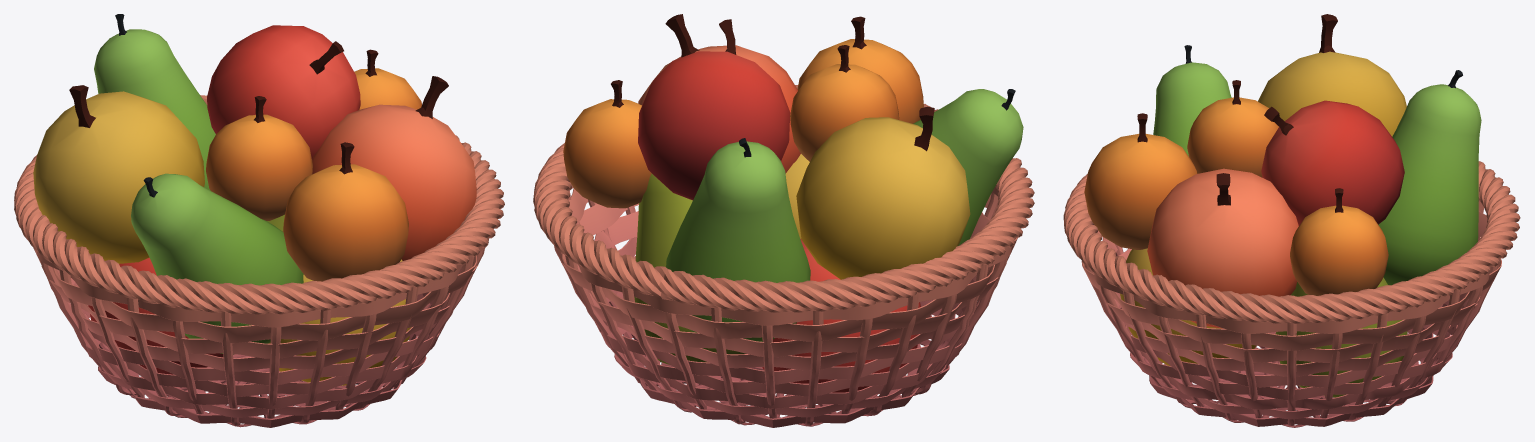
File: SM_FruitsSet.fbx
3 views of the same model, side by side, from view 1: azimuth 30°, elevation 25°; view 2: azimuth 150°, elevation 25°; view 3: azimuth 270°, elevation 25° (orthographic). The views are drawn at different scales.
Visible parts, largest first — view 1: SM_FruitsSet; view 2: SM_FruitsSet; view 3: SM_FruitsSet.
Part boxes in pixels (x1=…): SM_FruitsSet: x1=14, y1=14, x2=504, y2=427; SM_FruitsSet: x1=533, y1=14, x2=1034, y2=427; SM_FruitsSet: x1=1063, y1=14, x2=1520, y2=427.
Size of the model in its own units: 60.46 by 43.28 by 60.47.
